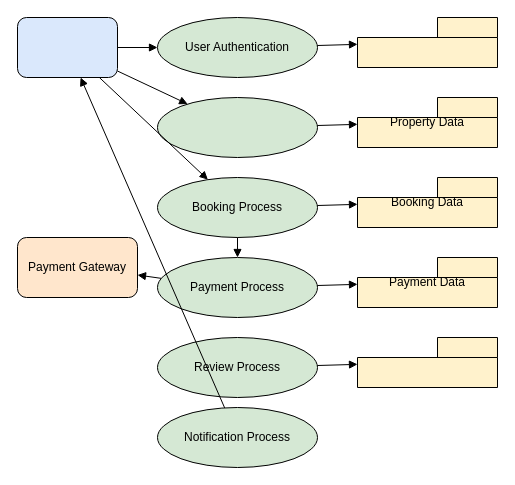
This 515x485 diagram has some shape labels left out. The shapes that lost their labels are listed below. From the top down, each one's box as (x1, y1, x2, y2) in pixels, then its label:
(16, 16, 118, 78): User
(356, 16, 498, 68): User Data
(156, 96, 318, 158): Property Management
(356, 336, 498, 388): Review Data
